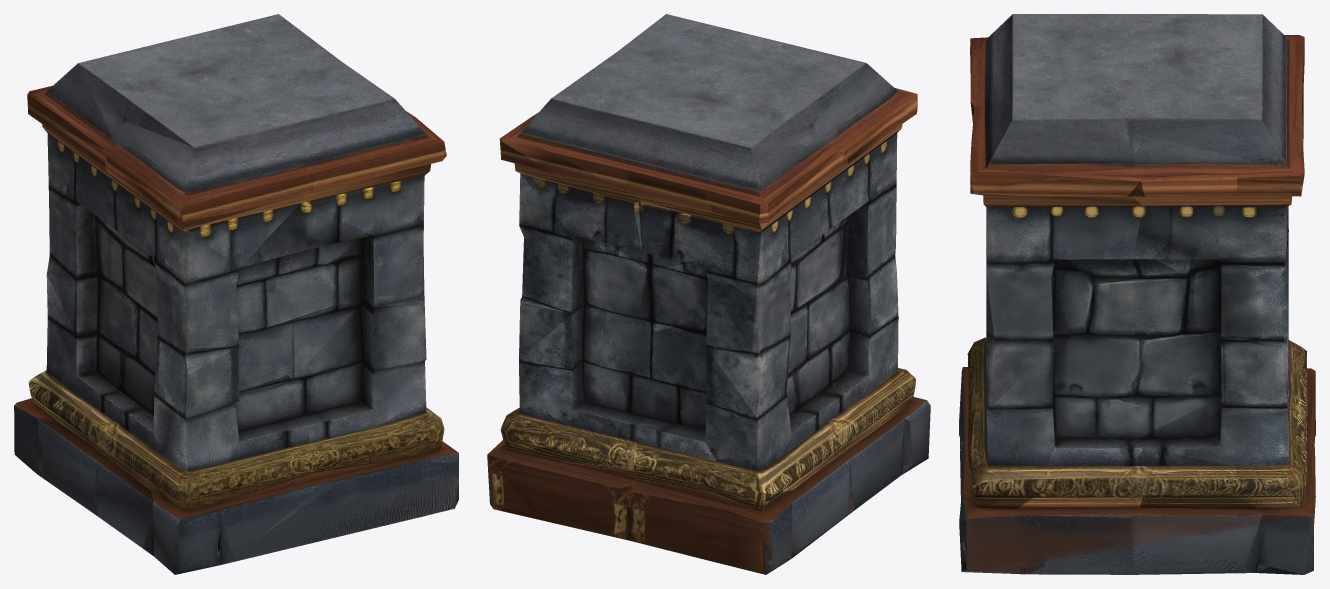
Rendered from ENV_MasonryPillar.fbx.
3 renders of one model, left to right at view 1: azimuth 30°, elevation 25°; view 2: azimuth 150°, elevation 25°; view 3: azimuth 270°, elevation 25°, orthographic. The views are drawn at different scales.
Parts seen in each view (by area): view 1: Mesh_0; view 2: Mesh_0; view 3: Mesh_0.
Part boxes in pixels (bbox=[...]): Mesh_0: bbox=[14, 14, 458, 574]; Mesh_0: bbox=[487, 14, 930, 574]; Mesh_0: bbox=[959, 14, 1315, 574].
Size of the model in its own units: 142 by 190 by 142.
Materials: 1 (1 with a texture image).
